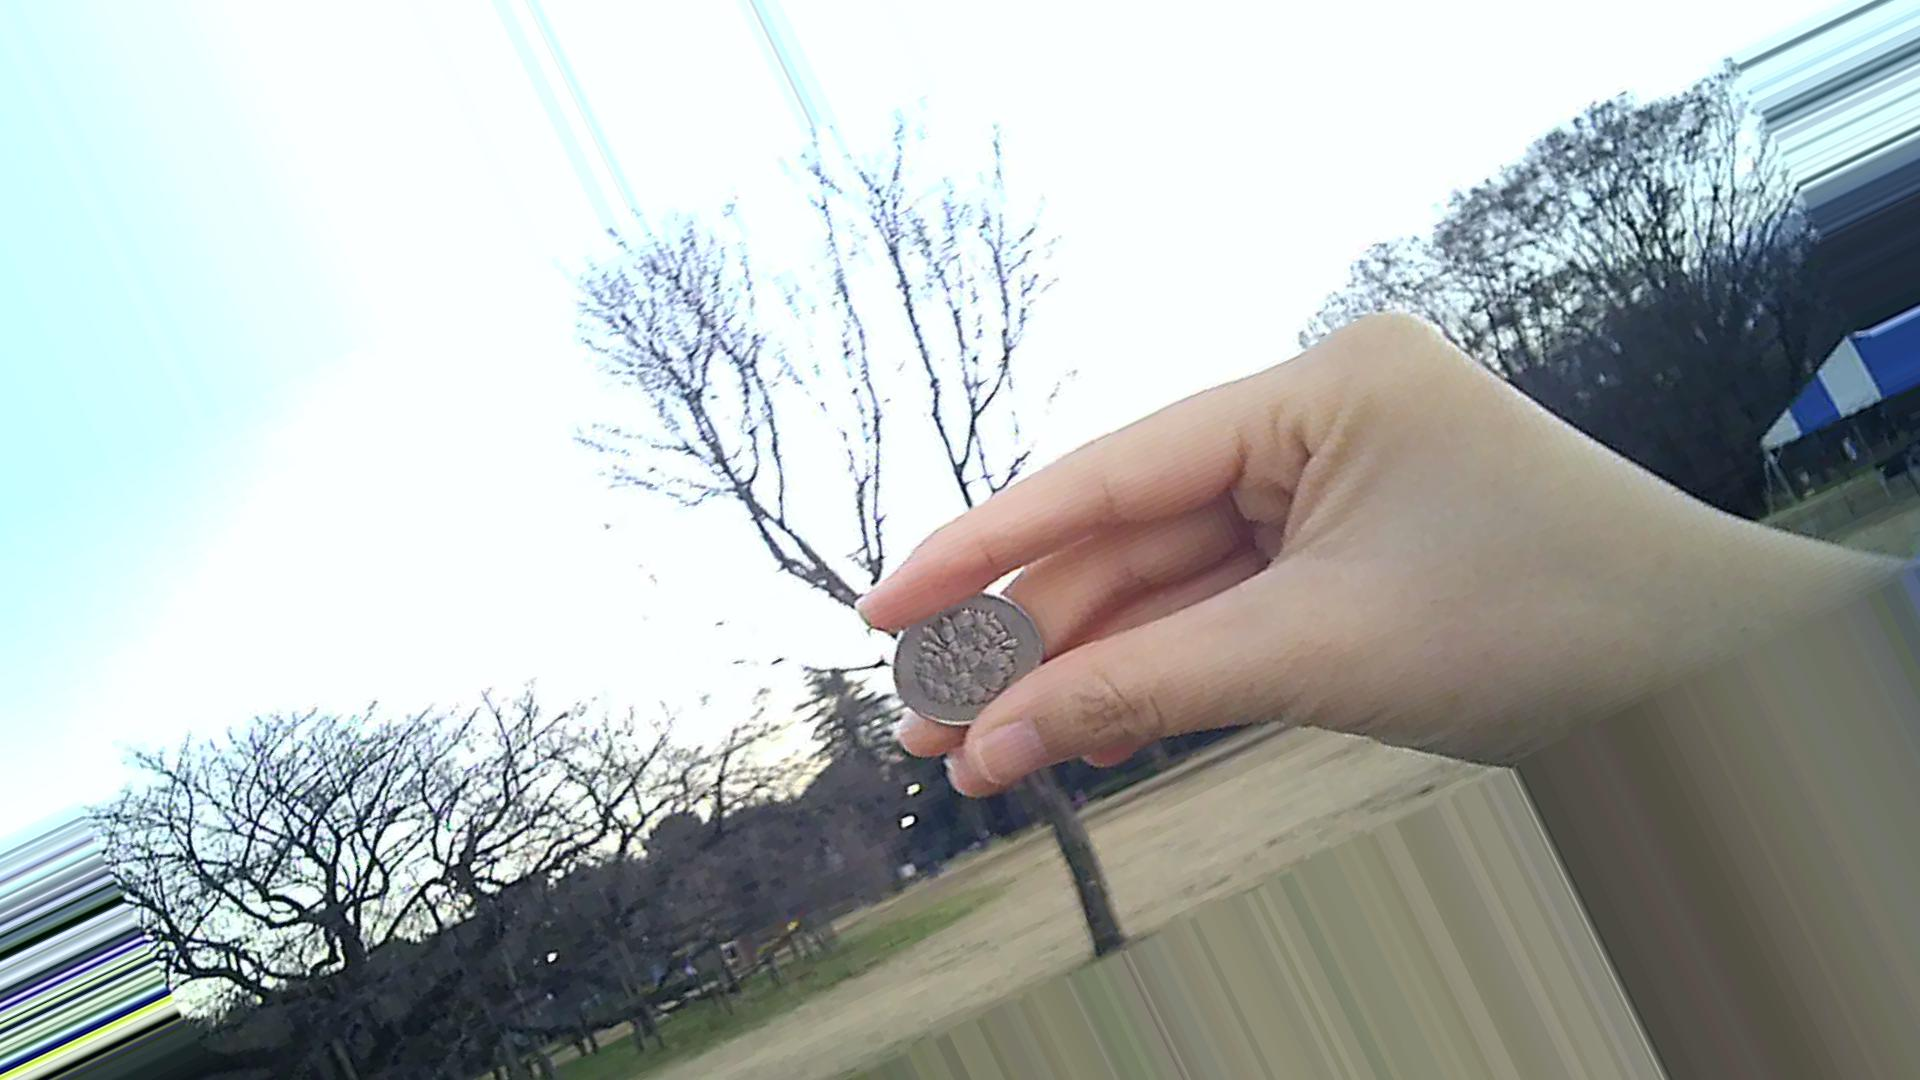100 Yen: (884, 582, 1064, 732)
